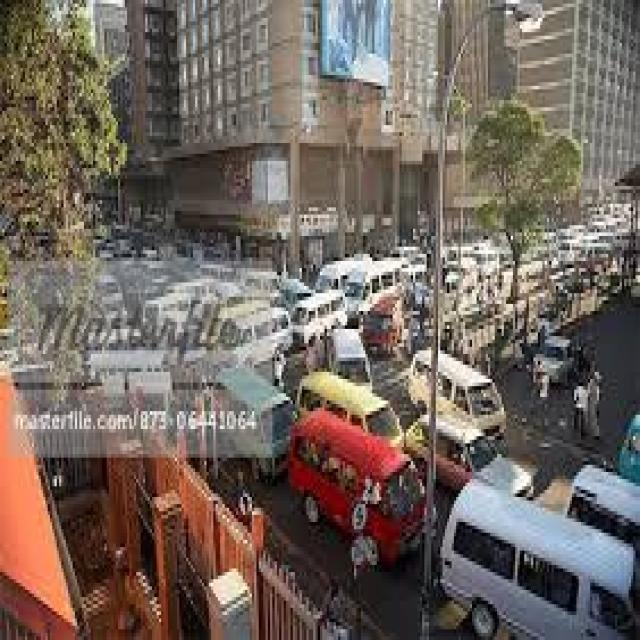MiniBus taxi: (281, 400, 438, 576), (406, 343, 508, 454)
